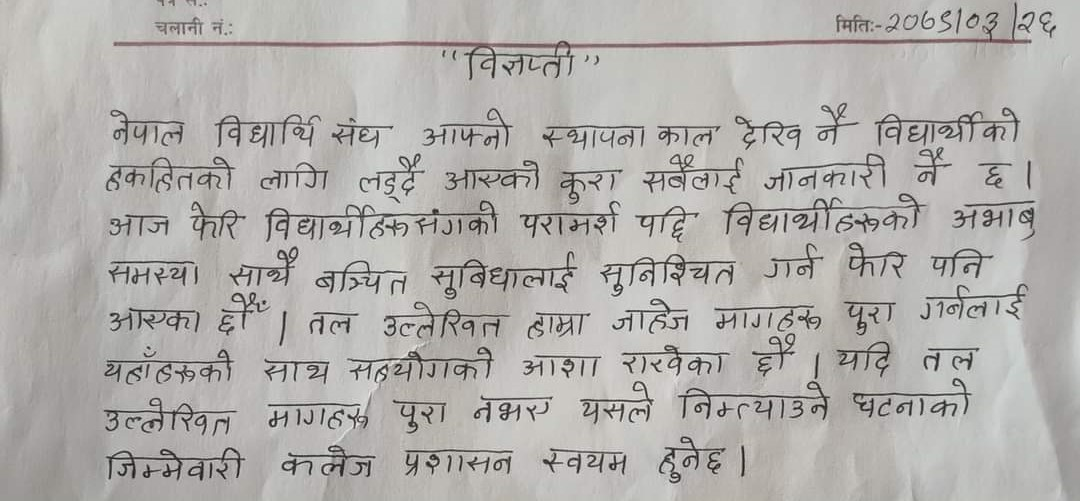text: (263, 197, 502, 243), (719, 195, 925, 236), (675, 377, 834, 427), (427, 252, 578, 300), (343, 343, 498, 386), (596, 252, 737, 298), (876, 104, 1023, 147), (104, 395, 237, 439), (885, 6, 1062, 39), (104, 443, 246, 484), (101, 346, 236, 389), (762, 150, 888, 194), (851, 377, 975, 421), (919, 281, 1033, 326), (103, 153, 236, 191), (379, 301, 502, 341), (400, 442, 516, 483), (640, 152, 745, 196), (419, 107, 517, 154), (213, 110, 321, 150), (464, 43, 576, 81), (313, 258, 411, 300), (948, 198, 1040, 242), (262, 395, 369, 432), (579, 378, 658, 426), (656, 434, 726, 488), (712, 299, 826, 332), (539, 119, 648, 153), (617, 344, 726, 378), (444, 155, 543, 192), (519, 202, 617, 239), (105, 303, 205, 339), (278, 444, 379, 479), (606, 298, 692, 339), (106, 107, 189, 147), (354, 155, 423, 202), (225, 243, 298, 286), (105, 258, 203, 290), (214, 290, 272, 341), (830, 338, 897, 380), (558, 162, 620, 207), (539, 448, 629, 479), (845, 240, 911, 282), (472, 395, 555, 428), (519, 350, 604, 382), (731, 113, 804, 150), (186, 198, 246, 243), (761, 239, 819, 282), (258, 160, 331, 194), (634, 203, 694, 244), (837, 299, 901, 336), (391, 395, 448, 435), (106, 210, 173, 243), (261, 356, 332, 387), (753, 332, 798, 379), (928, 245, 990, 279), (326, 115, 387, 149), (809, 100, 854, 146), (522, 310, 591, 340), (919, 341, 979, 375), (655, 117, 720, 148), (909, 143, 949, 187), (305, 307, 360, 339), (975, 157, 1015, 190)
